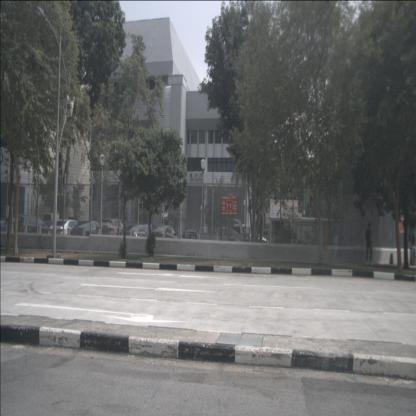human-pedestrian-adult: (365, 222, 373, 266)
vehicle-car: (13, 214, 49, 240), (48, 219, 84, 244), (70, 220, 104, 246), (96, 219, 128, 242), (121, 224, 156, 244), (148, 226, 180, 246), (43, 213, 71, 231), (234, 223, 254, 242), (0, 215, 12, 237), (249, 234, 269, 245)
vehicle-truck: (203, 219, 245, 252)
